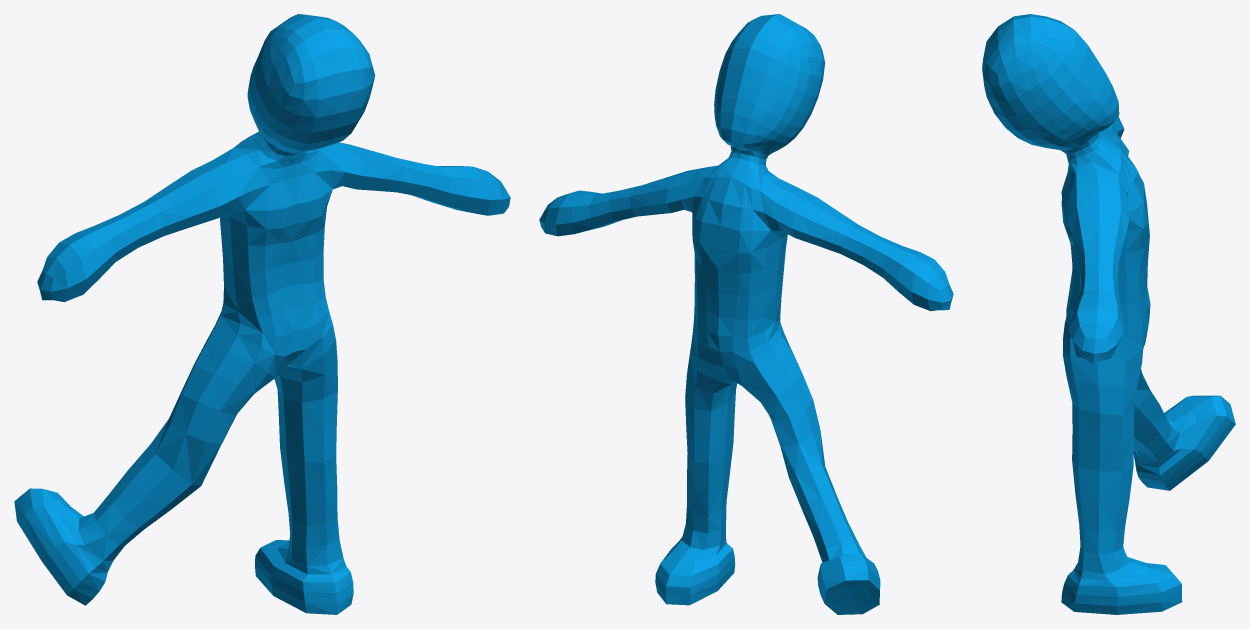
The picture shows the model from 3 angles, left to right: view 1: azimuth 30°, elevation 25°; view 2: azimuth 150°, elevation 25°; view 3: azimuth 270°, elevation 25°; orthographic projection. The views are drawn at different scales.
Size of the model in its own units: 8.24 by 10.44 by 4.22.
